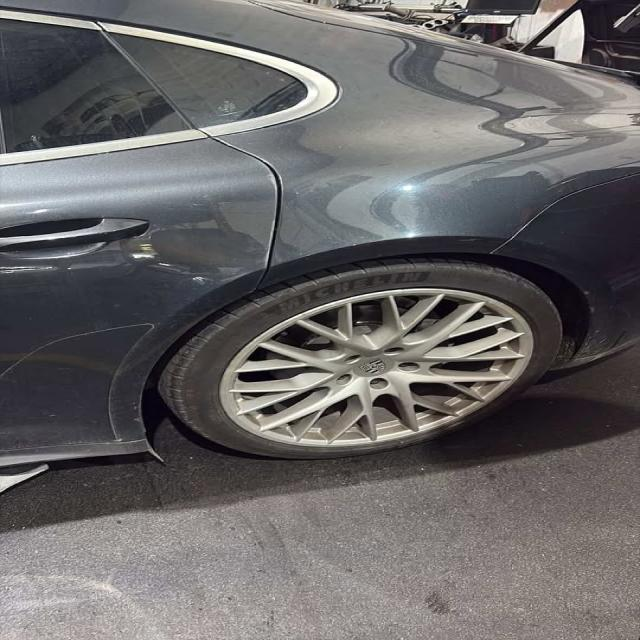jante: (221, 288, 536, 450)
parafuso: (362, 375, 399, 393), (375, 343, 409, 359), (327, 372, 359, 387), (336, 352, 364, 368), (392, 360, 423, 373)
roda: (159, 258, 568, 466)
